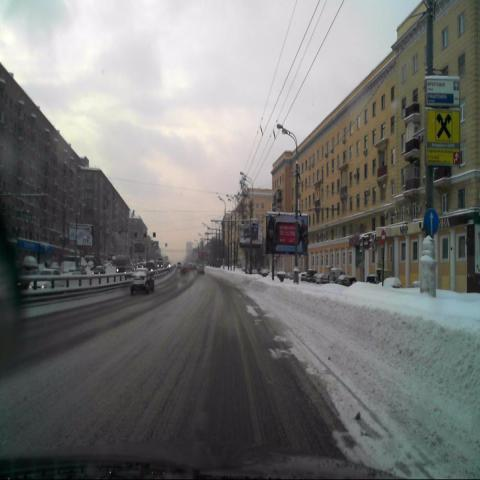4_1_1: (424, 209, 439, 234)
